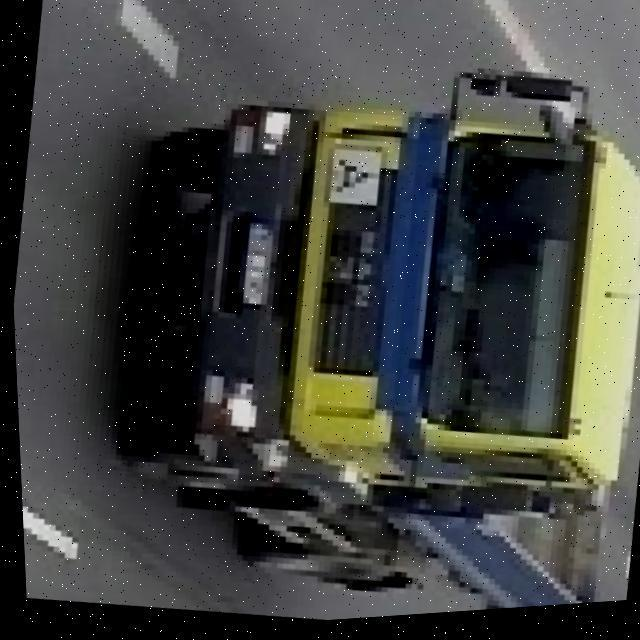truck: (82, 27, 640, 636)
